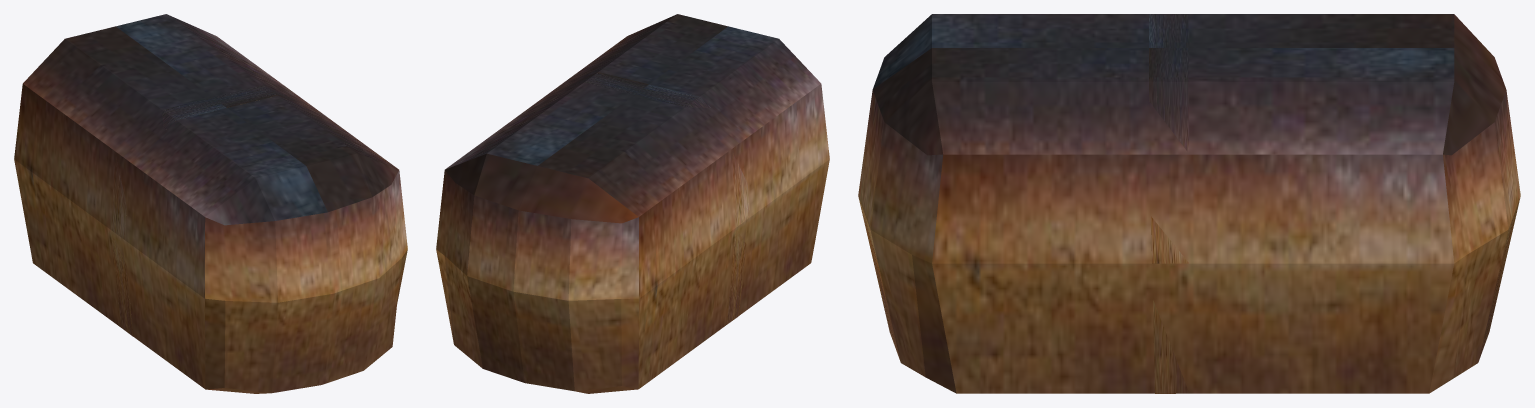
File: Black bread.fbx
3 views of the same model, side by side, from view 1: azimuth 30°, elevation 25°; view 2: azimuth 150°, elevation 25°; view 3: azimuth 270°, elevation 25° (orthographic). The views are drawn at different scales.
Parts seen in each view (by area): view 1: Black bread(full fresh), Black bread(slice fresh); view 2: Black bread(full fresh), Black bread(slice fresh); view 3: Black bread(full fresh), Black bread(slice fresh).
Boxes of the visible parts, x1,y1,x2,y2 form: Black bread(full fresh): (14, 14, 407, 393); Black bread(slice fresh): (111, 85, 308, 336); Black bread(full fresh): (436, 14, 829, 393); Black bread(slice fresh): (540, 72, 749, 324); Black bread(full fresh): (858, 14, 1520, 393); Black bread(slice fresh): (1149, 14, 1189, 393).
Bounding box in the file's own units: 150 × 152 × 310.
Materials: 10 (10 with a texture image).
